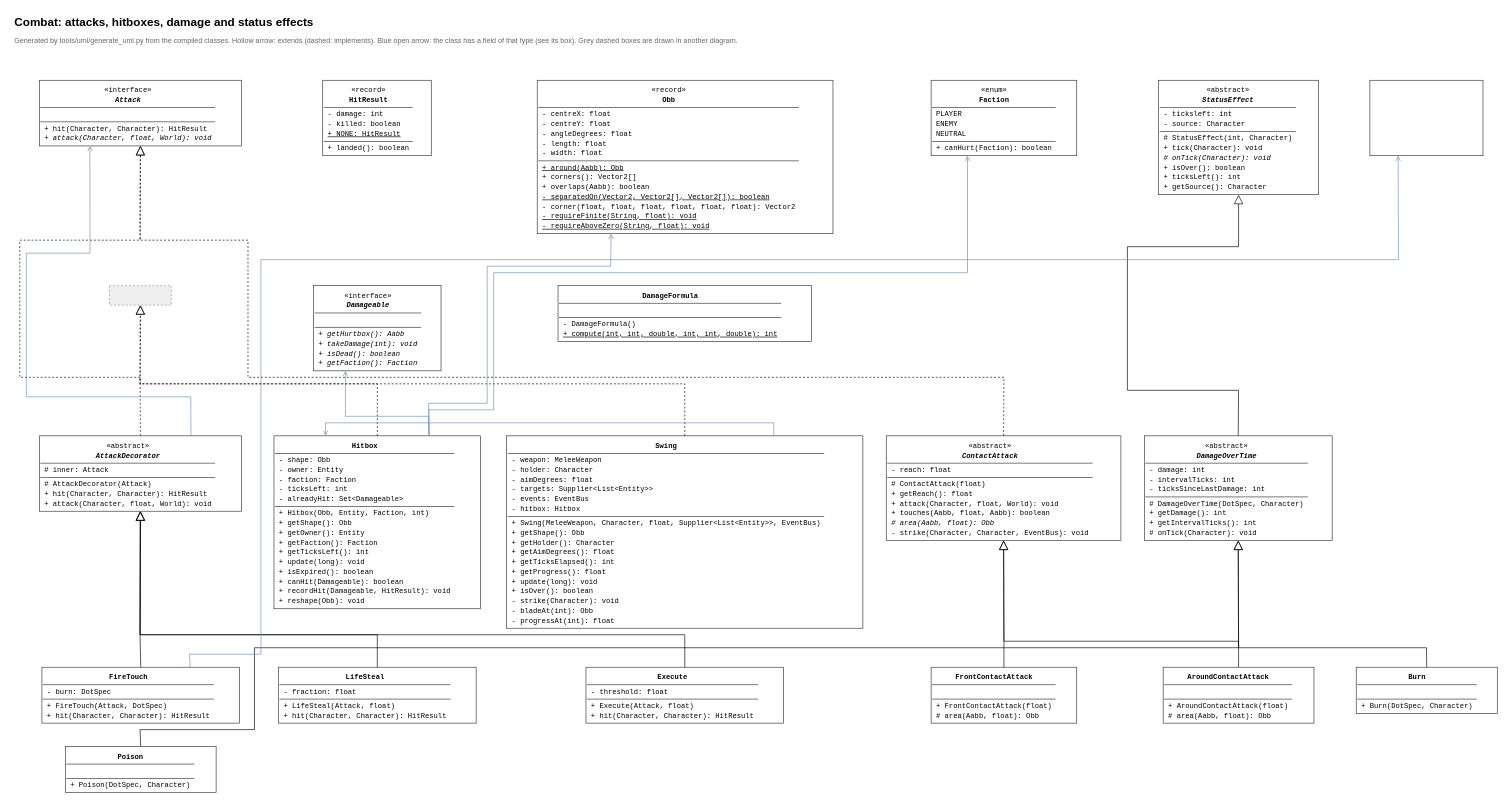
This 1509x804 diagram has some shape labels left out. The shapes that lost their labels are listed below. From the top down, each one's centre as x and y in pixels, then its label:
At point 1426,118: "«record» DotSpec - damage: int - intervalTicks: int - durationTicks: int".
At point 140,295: "Updatable".
